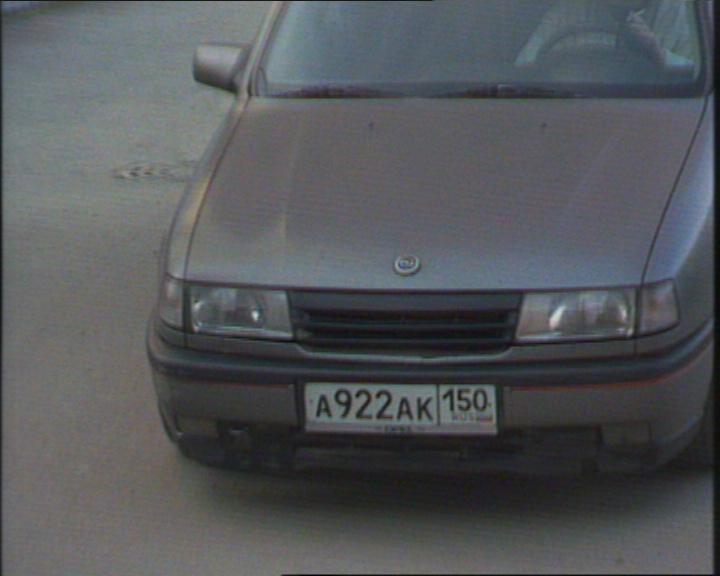license-plateSW: (305, 382, 500, 427)
